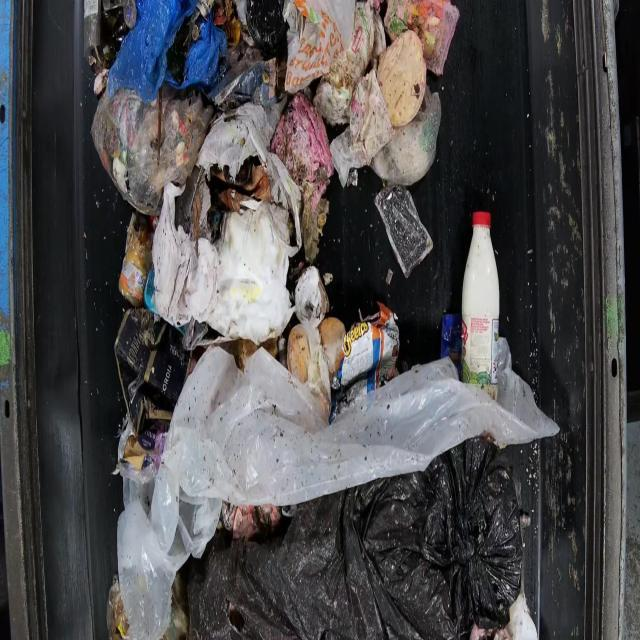bottles: (459, 210, 500, 401)
other-trash: (86, 0, 551, 638)
